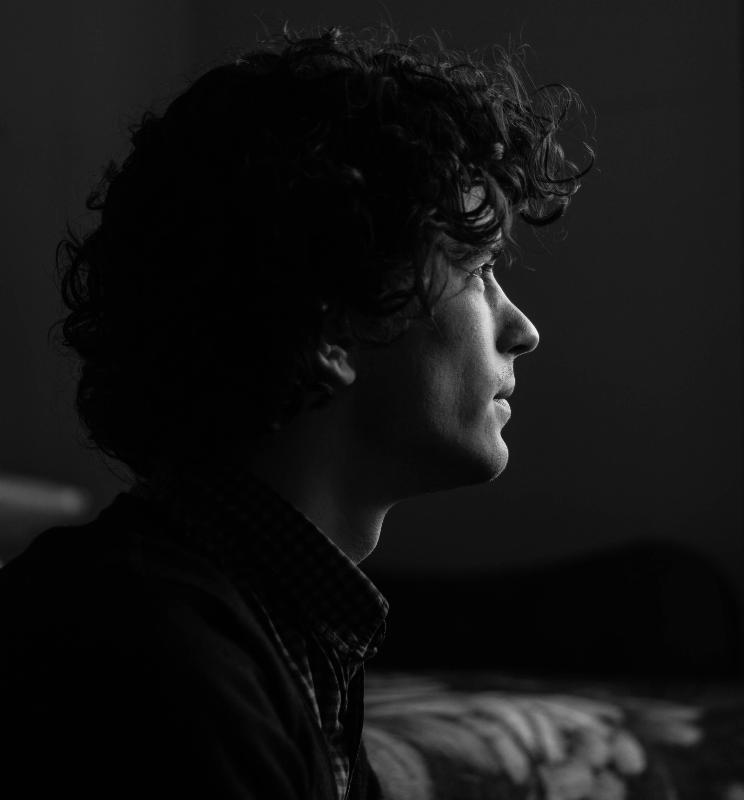Person: (5, 36, 550, 800)
